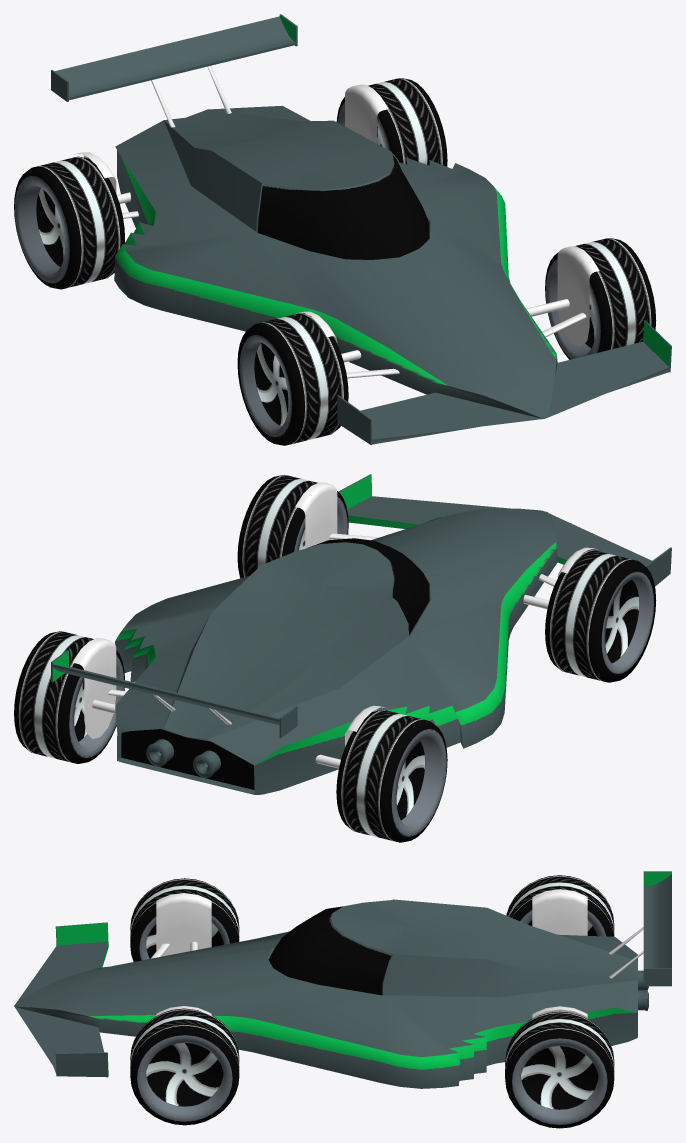
The model's file is CarModel_Drift.fbx.
The picture shows the model from 3 angles, top to bottom: view 1: azimuth 30°, elevation 25°; view 2: azimuth 150°, elevation 25°; view 3: azimuth 270°, elevation 25°; orthographic projection. The views are drawn at different scales.
Parts seen in each view (by area): view 1: DefaultCar, Tire.002, Tire, Tire.001, Tire.003; view 2: DefaultCar, Tire.002, Tire, Tire.003, Tire.001; view 3: DefaultCar, Tire.003, Tire.001, Tire, Tire.002.
Part boxes in pixels (x1,y1,x2,y2): DefaultCar: (51, 14, 671, 444); Tire.002: (14, 156, 124, 289); Tire: (237, 313, 348, 445); Tire.001: (545, 238, 656, 359); Tire.003: (336, 78, 447, 166); DefaultCar: (51, 474, 671, 794); Tire.002: (336, 709, 447, 842); Tire: (545, 550, 656, 682); Tire.003: (14, 631, 124, 763); Tire.001: (237, 474, 348, 578); DefaultCar: (14, 871, 671, 1088); Tire.003: (505, 1011, 614, 1128); Tire.001: (130, 1008, 239, 1125); Tire: (130, 878, 239, 961); Tire.002: (506, 875, 614, 936).
Bounding box in the file's own units: 173 × 67.09 × 301.
3 materials, 2 textured.
